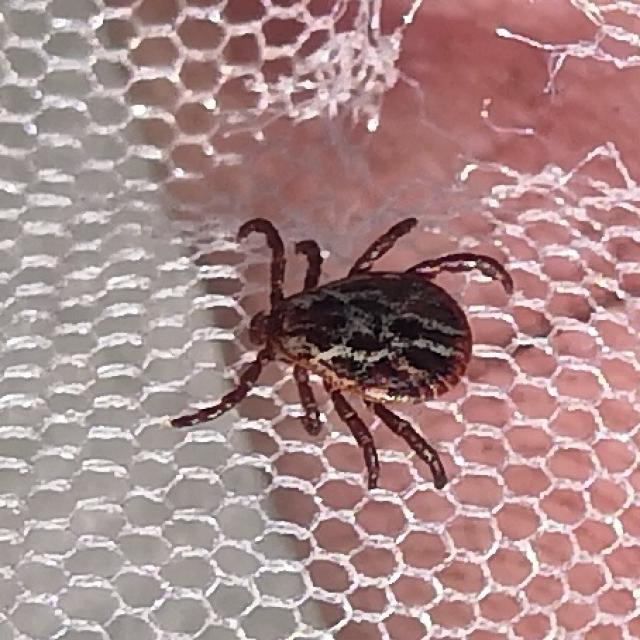Dermacentor Reticulatus-M: (168, 217, 510, 489)
